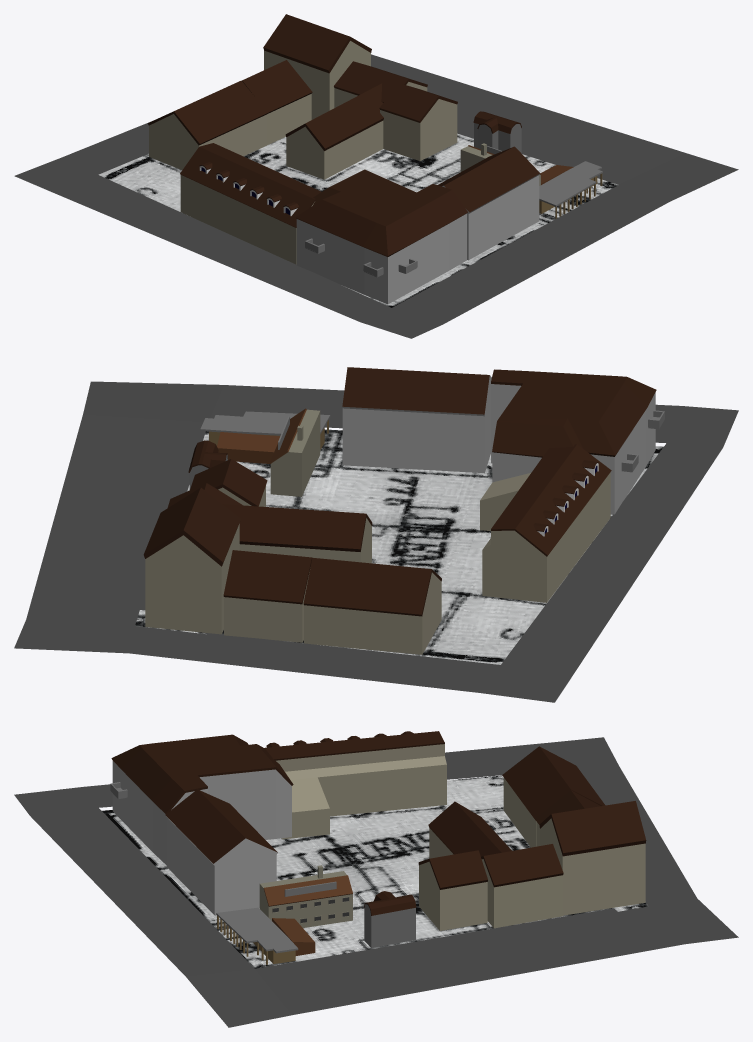
Rendered from skrapan-innan (2).fbx.
3 views of the same model, one above another, from view 1: azimuth 30°, elevation 25°; view 2: azimuth 150°, elevation 25°; view 3: azimuth 270°, elevation 25° (orthographic). The views are drawn at different scales.
Visible parts, largest first — view 1: Screenshot 2022-03-16 at 19-56-49 Historiska Kartor; view 2: Screenshot 2022-03-16 at 19-56-49 Historiska Kartor; view 3: Screenshot 2022-03-16 at 19-56-49 Historiska Kartor.
Boxes of the visible parts, box(x1,y1,x2,y2) form: Screenshot 2022-03-16 at 19-56-49 Historiska Kartor: box(14, 14, 738, 338); Screenshot 2022-03-16 at 19-56-49 Historiska Kartor: box(14, 367, 738, 702); Screenshot 2022-03-16 at 19-56-49 Historiska Kartor: box(14, 731, 738, 1027).
Bounding box in the file's own units: 11411 × 2063 × 12060.
14 materials, 1 textured.
